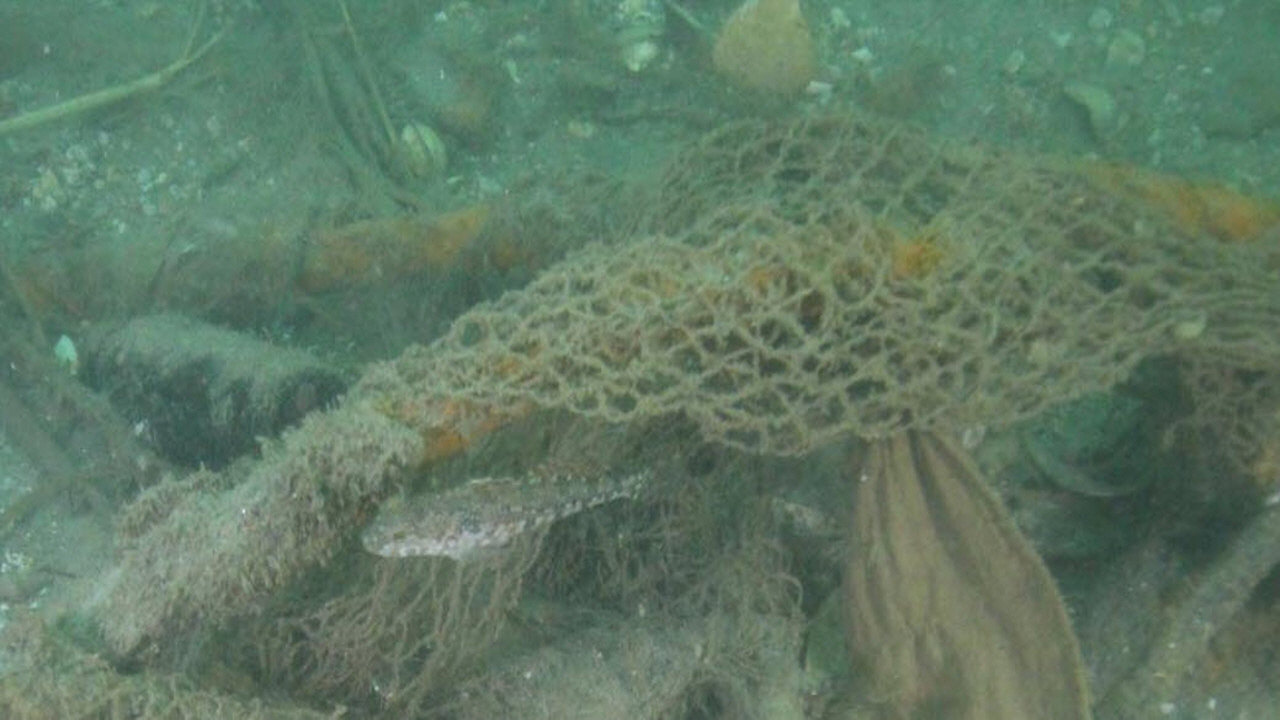fish net: (418, 114, 1280, 456)
